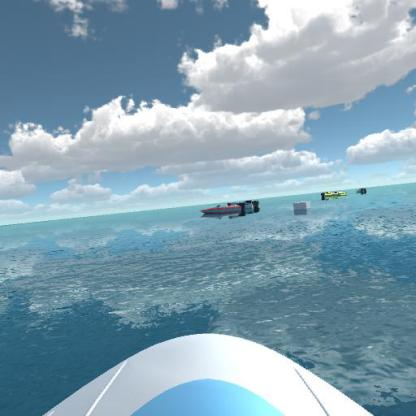usv0: (354, 182, 367, 195)
usv1: (228, 196, 264, 216), (319, 188, 347, 200)
usv3: (199, 200, 248, 222)
